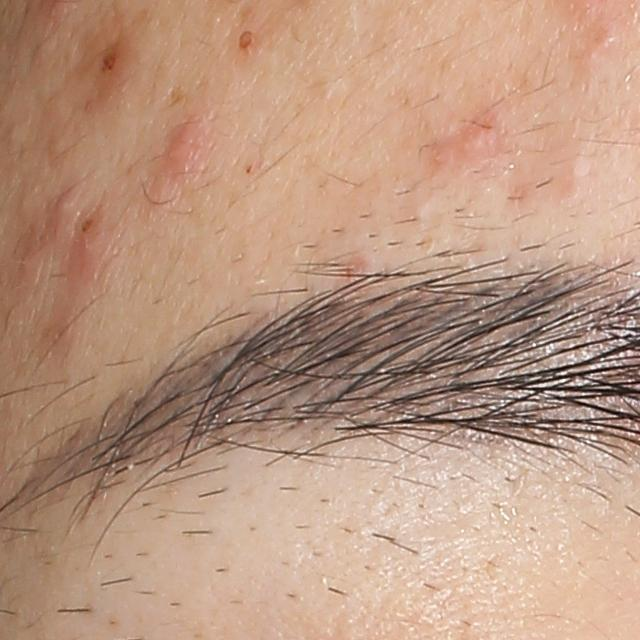comedo: (232, 28, 257, 54)
papule: (148, 117, 213, 211), (68, 210, 113, 290), (456, 119, 501, 165), (48, 192, 77, 223)
